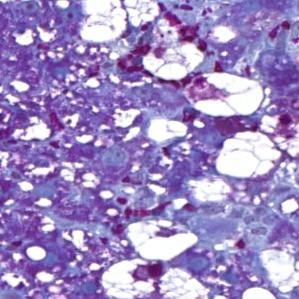ballooning: (97, 256, 211, 296), (181, 69, 266, 119), (124, 213, 200, 266), (77, 2, 162, 49), (214, 127, 283, 179)
